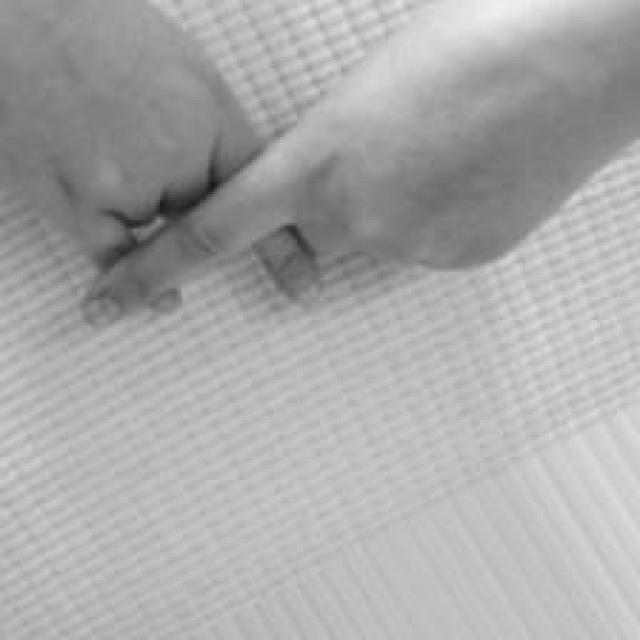H: (0, 0, 640, 334)
